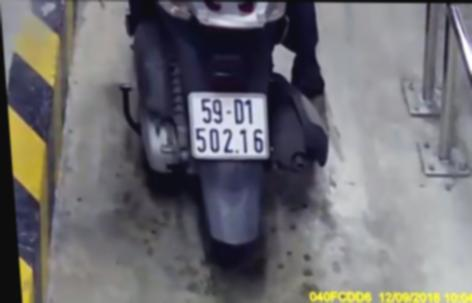License_Plate: (177, 89, 279, 170)
